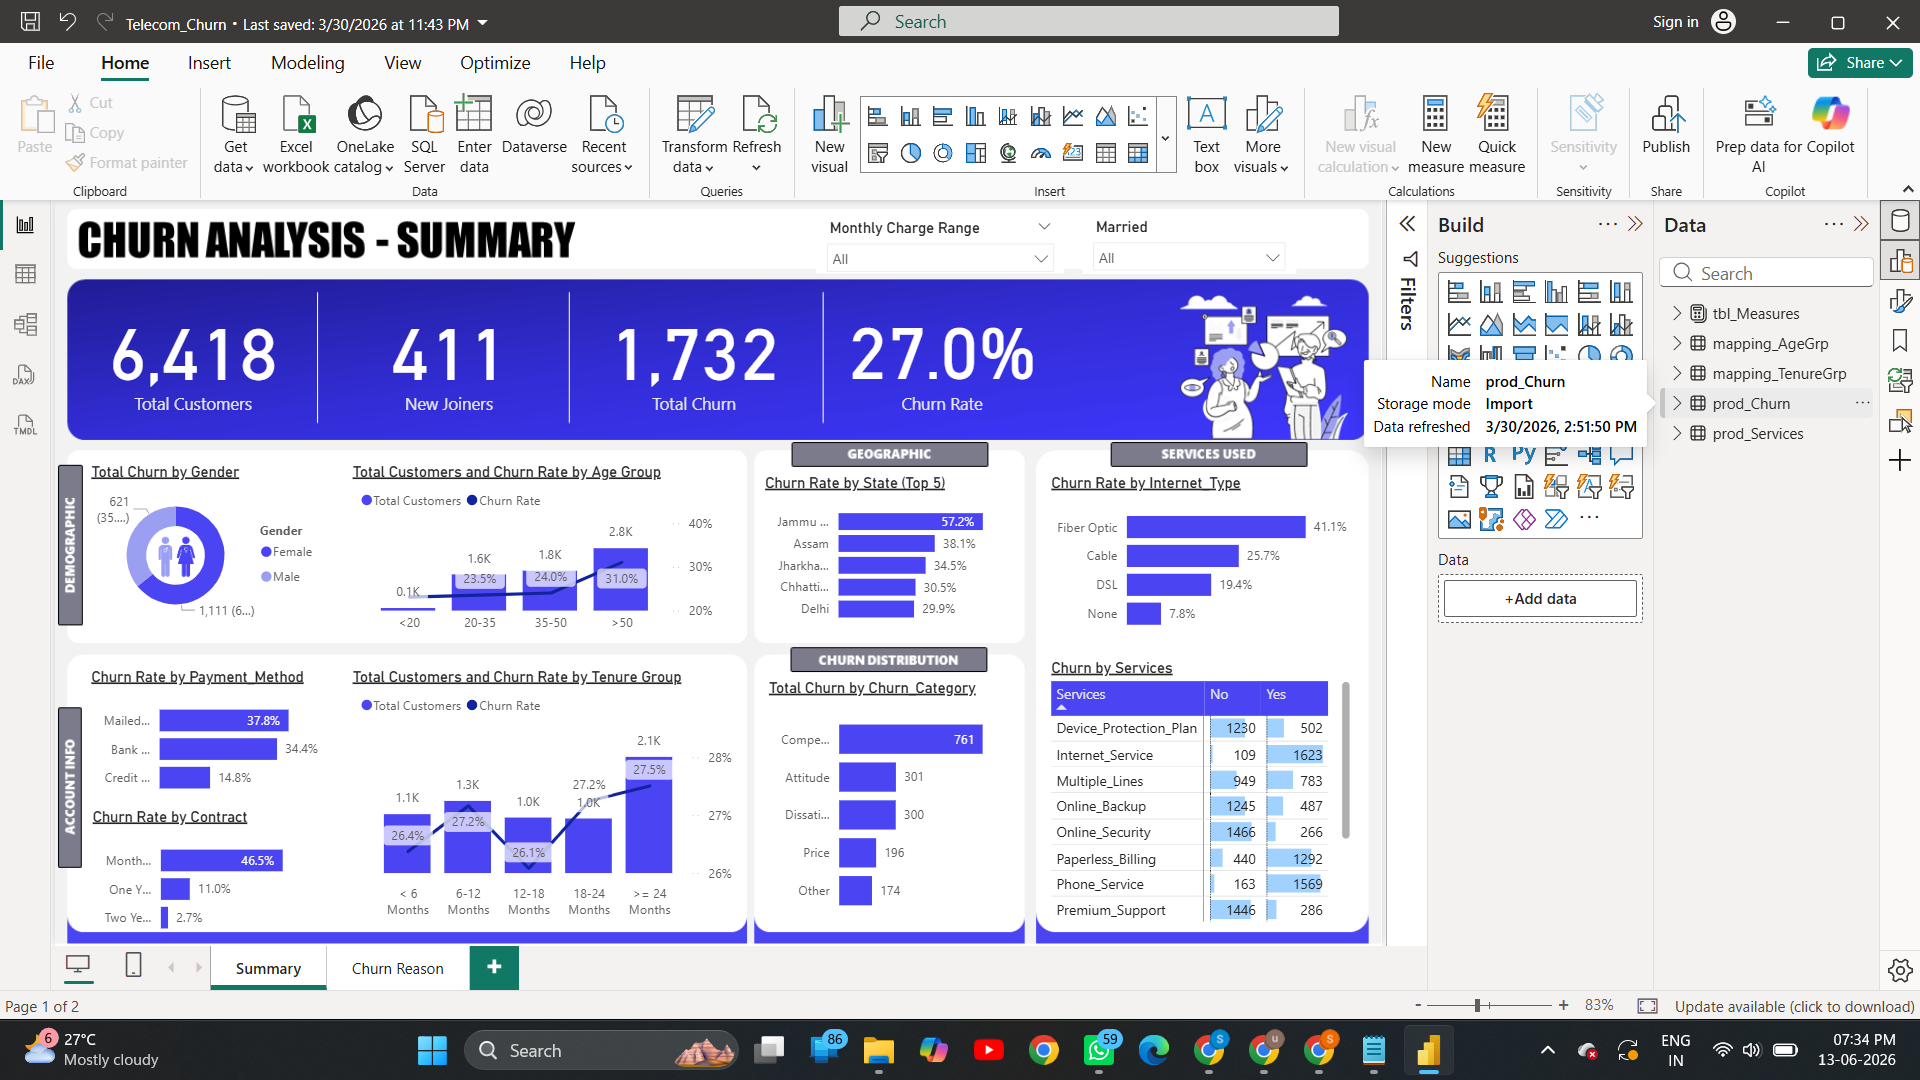

This screenshot's page, from the dashboard's own definition file:
{"tool":"powerbi","page":{"name":"Summary","canvas":[1280,720],"ordinal":0},"visuals":[{"type":"image","box":[78.4,318.5,78.4,50.7],"z":0},{"type":"card","fields":{"Values":["tbl_Measures.Total Customers"]},"box":[21.6,70.7,223.6,157.3],"z":1000},{"type":"card","fields":{"Values":["tbl_Measures.New Joiners"]},"box":[264,70.7,232.3,157.3],"z":2000},{"type":"card","fields":{"Values":["tbl_Measures.Total Churn"]},"box":[496.3,70.7,242.4,157.3],"z":3000},{"type":"card","fields":{"Values":["tbl_Measures.Churn Rate"]},"box":[740.1,70.7,233.7,155.8],"z":4000},{"type":"donutChart","fields":{"Category":["prod_Churn.Gender"],"Y":["tbl_Measures.Total Churn"]},"box":[30.3,253.9,233.7,163],"z":5000},{"type":"lineStackedColumnComboChart","fields":{"Category":["mapping_AgeGrp.Age Group"],"Y":["tbl_Measures.Total Customers"],"Y2":["tbl_Measures.Churn Rate"]},"box":[282.8,253.9,357.8,173.1],"z":6000},{"type":"clusteredBarChart","fields":{"Category":["prod_Churn.Payment_Method"],"Y":["tbl_Measures.Churn Rate"]},"box":[30.3,451.6,233.7,134.2],"z":7000},{"type":"clusteredBarChart","fields":{"Category":["prod_Churn.Contract"],"Y":["tbl_Measures.Churn Rate"]},"box":[31.7,585.8,232.3,134.2],"z":8000},{"type":"lineStackedColumnComboChart","fields":{"Category":["mapping_TenureGrp.Tenure Group"],"Y":["tbl_Measures.Total Customers"],"Y2":["tbl_Measures.Churn Rate"]},"box":[282.8,451.6,376.6,249.6],"z":9000},{"type":"clusteredBarChart","title":"Churn Rate by State (Top 5)","fields":{"Category":["prod_Churn.State"],"Y":["tbl_Measures.Churn Rate"]},"box":[681,264,253.9,152.9],"z":10000},{"type":"clusteredBarChart","fields":{"Category":["prod_Churn.Churn_Category"],"Y":["tbl_Measures.Total Churn"]},"box":[683.9,461.7,240.9,239.5],"z":11000},{"type":"clusteredBarChart","fields":{"Category":["prod_Churn.Internet_Type"],"Y":["tbl_Measures.Churn Rate"]},"box":[956.6,264,301.5,163],"z":12000},{"type":"pivotTable","title":"Churn by Services","fields":{"Rows":["prod_Services.Services"],"Columns":["prod_Services.Status"],"Values":["Sum(prod_Services.Churn Status)"]},"box":[956.6,442.9,298.7,258.3],"z":13000},{"type":"slicer","fields":{"Values":["prod_Churn.Monthly Charge Status"]},"box":[734.4,13,239.5,57.7],"z":14000},{"type":"slicer","fields":{"Values":["prod_Churn.Married"]},"box":[991.2,11.5,206.3,59.2],"z":15000}]}

Visuals, with their boxes on the page's 1280x720 design canvas (x1, y1, x2, y2). These are canvas units, not pixel positions in the 1920x1080 screenshot, which may show the page scaled, cropped or inside an application window:
image: 78 318 157 369
card - tbl_Measures.Total Customers: 22 71 245 228
card - tbl_Measures.New Joiners: 264 71 496 228
card - tbl_Measures.Total Churn: 496 71 739 228
card - tbl_Measures.Churn Rate: 740 71 974 226
donutChart - prod_Churn.Gender x tbl_Measures.Total Churn: 30 254 264 417
lineStackedColumnComboChart - mapping_AgeGrp.Age Group x tbl_Measures.Total Customers: 283 254 641 427
clusteredBarChart - prod_Churn.Payment_Method x tbl_Measures.Churn Rate: 30 452 264 586
clusteredBarChart - prod_Churn.Contract x tbl_Measures.Churn Rate: 32 586 264 720
lineStackedColumnComboChart - mapping_TenureGrp.Tenure Group x tbl_Measures.Total Customers: 283 452 659 701
"Churn Rate by State (Top 5)" clusteredBarChart: 681 264 935 417
clusteredBarChart - prod_Churn.Churn_Category x tbl_Measures.Total Churn: 684 462 925 701
clusteredBarChart - prod_Churn.Internet_Type x tbl_Measures.Churn Rate: 957 264 1258 427
"Churn by Services" pivotTable: 957 443 1255 701
slicer - prod_Churn.Monthly Charge Status: 734 13 974 71
slicer - prod_Churn.Married: 991 12 1198 71
